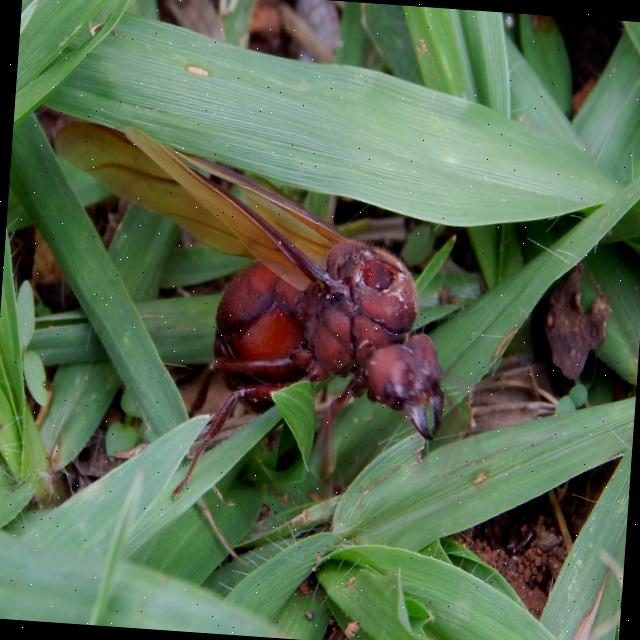Alive-Female-Alate: (32, 119, 458, 518)
